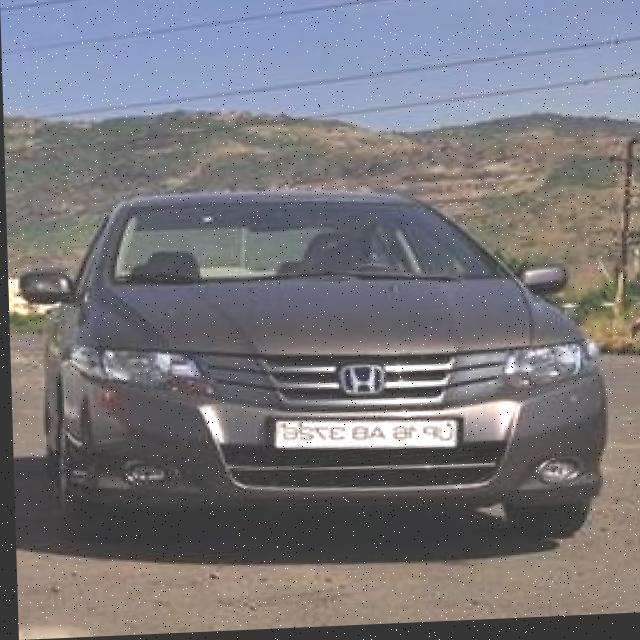plate: (267, 414, 459, 464)
